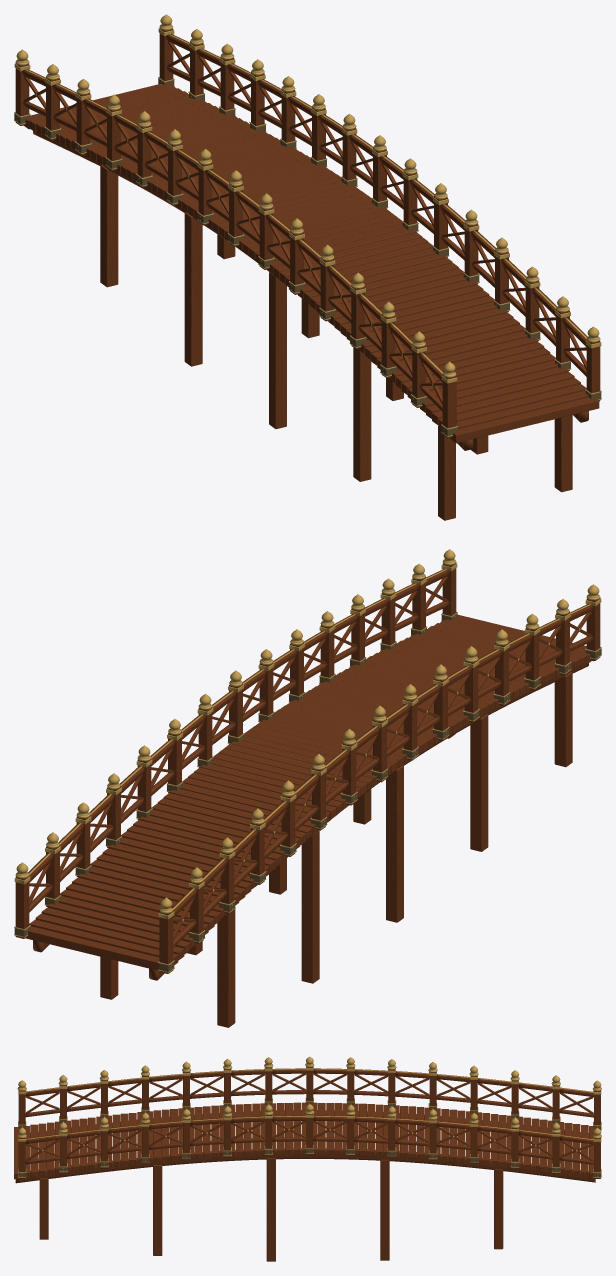
File: bridge.glb
3 renders of one model, top to bottom at view 1: azimuth 30°, elevation 25°; view 2: azimuth 150°, elevation 25°; view 3: azimuth 270°, elevation 25°, orthographic. The views are drawn at different scales.
Visible parts, largest first — view 1: Bridge | oiled rosewood, Bridge | satin gilded copper, Bridge | polished handrails, Bridge | recessed bronze; view 2: Bridge | oiled rosewood, Bridge | satin gilded copper, Bridge | polished handrails, Bridge | recessed bronze; view 3: Bridge | oiled rosewood, Bridge | polished handrails, Bridge | satin gilded copper, Bridge | recessed bronze.
Part boxes in pixels (left/top/right/bottom): Bridge | oiled rosewood: left=15, top=28, right=600, bottom=520; Bridge | satin gilded copper: left=14, top=14, right=601, bottom=436; Bridge | polished handrails: left=22, top=34, right=587, bottom=430; Bridge | recessed bronze: left=14, top=24, right=601, bottom=436; Bridge | oiled rosewood: left=15, top=563, right=600, bottom=1027; Bridge | satin gilded copper: left=14, top=549, right=601, bottom=972; Bridge | polished handrails: left=28, top=569, right=593, bottom=959; Bridge | recessed bronze: left=14, top=558, right=601, bottom=971; Bridge | oiled rosewood: left=14, top=1067, right=600, bottom=1261; Bridge | polished handrails: left=17, top=1068, right=593, bottom=1169; Bridge | satin gilded copper: left=17, top=1056, right=601, bottom=1177; Bridge | recessed bronze: left=18, top=1063, right=601, bottom=1177.
Size of the model in its own units: 2.77 by 4.05 by 13.45.
4 materials, 4 textured.
